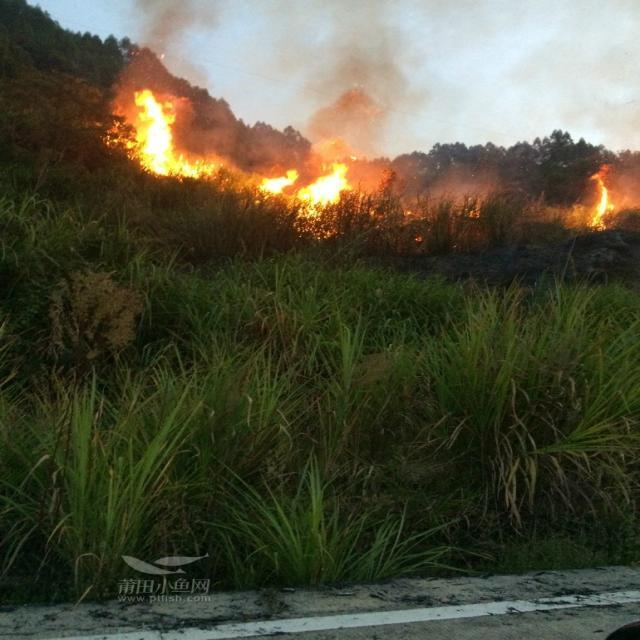Fire: (100, 88, 224, 184), (251, 163, 355, 239), (584, 163, 616, 231)
Smoke: (99, 0, 640, 210)
